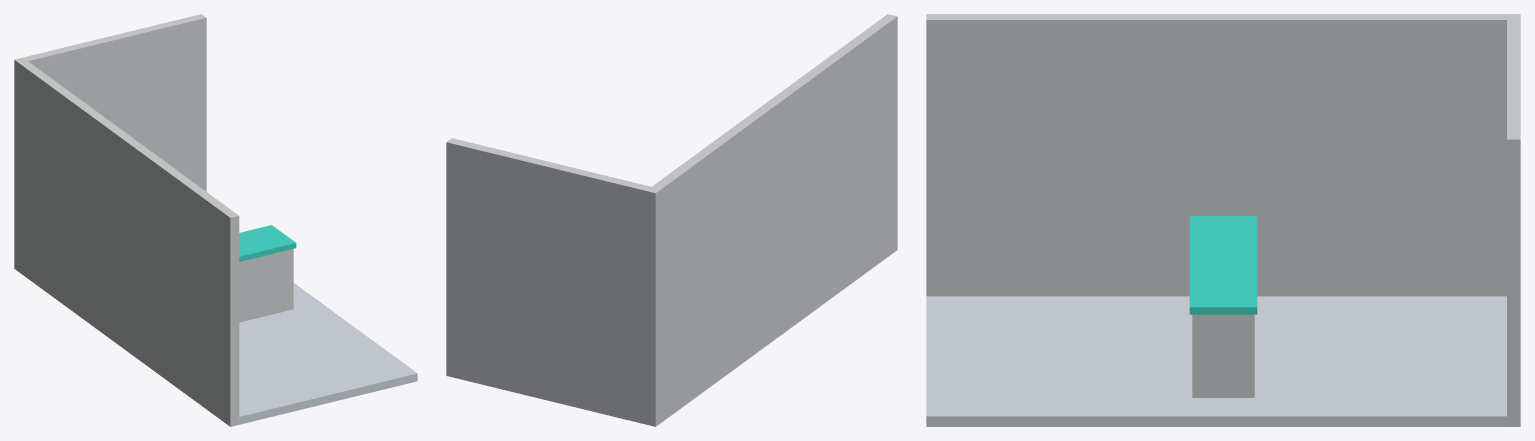
3 views of the same model, side by side, from view 1: azimuth 30°, elevation 25°; view 2: azimuth 150°, elevation 25°; view 3: azimuth 270°, elevation 25° (orthographic). The views are drawn at different scales.
Parts seen in each view (by area): view 1: Exhibition Booth Concept; view 2: Exhibition Booth Concept; view 3: Exhibition Booth Concept.
Part boxes in pixels (box(x1,y1,x2,y2)): Exhibition Booth Concept: box(14, 14, 417, 426); Exhibition Booth Concept: box(446, 14, 897, 426); Exhibition Booth Concept: box(926, 14, 1520, 426).
Bounding box in the file's own units: 3 × 3.2 × 6.
